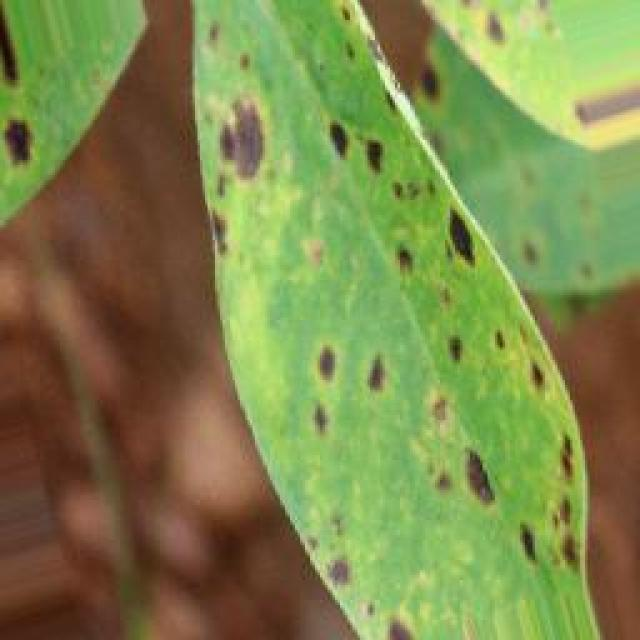Yellowish: (0, 1, 630, 600)
